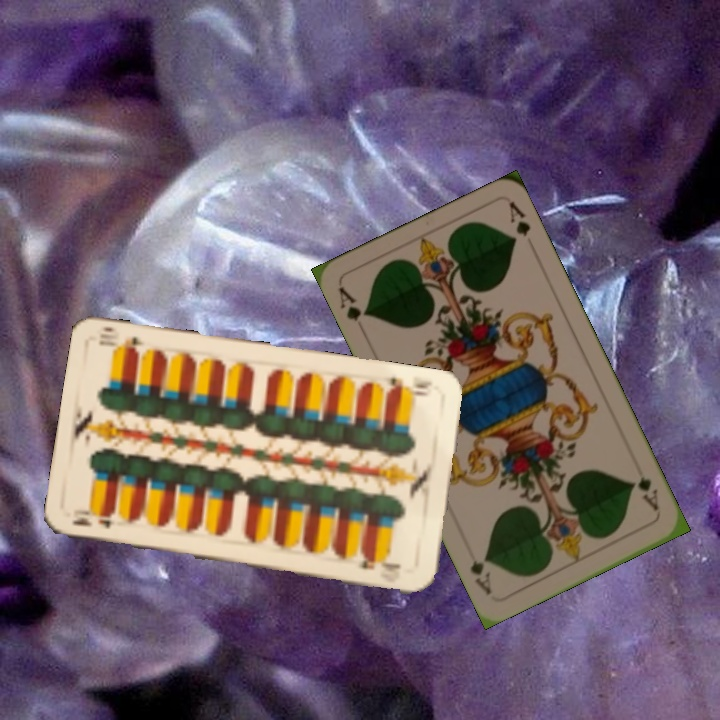E10: (383, 373, 435, 399), (68, 509, 117, 531)
GA: (334, 282, 371, 324), (628, 472, 661, 514)
